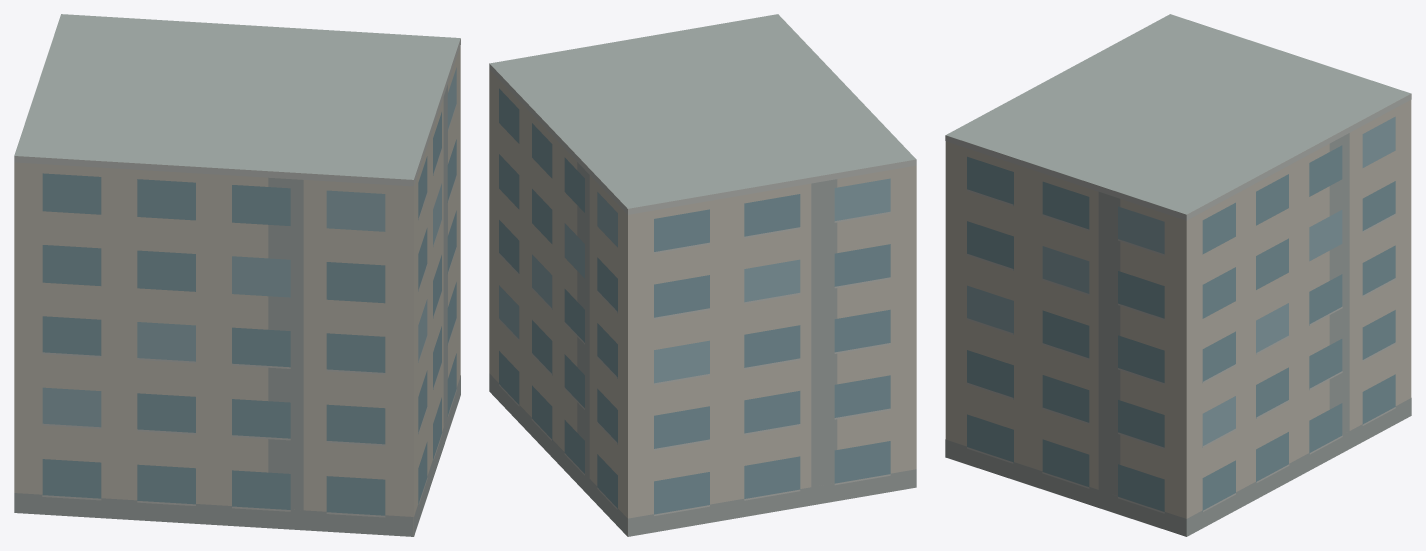
File: survey-upis-33022953.glb
3 views of the same model, side by side, from view 1: azimuth 30°, elevation 25°; view 2: azimuth 150°, elevation 25°; view 3: azimuth 270°, elevation 25° (orthographic). The views are drawn at different scales.
Parts seen in each view (by area): view 1: survey-upis-33022953.tmp; view 2: survey-upis-33022953.tmp; view 3: survey-upis-33022953.tmp.
Boxes of the visible parts, bbox=[...] form: survey-upis-33022953.tmp: bbox=[14, 14, 460, 536]; survey-upis-33022953.tmp: bbox=[489, 14, 916, 536]; survey-upis-33022953.tmp: bbox=[945, 14, 1411, 536].
Bounding box in the file's own units: 17.64 × 13.2 × 17.31.
